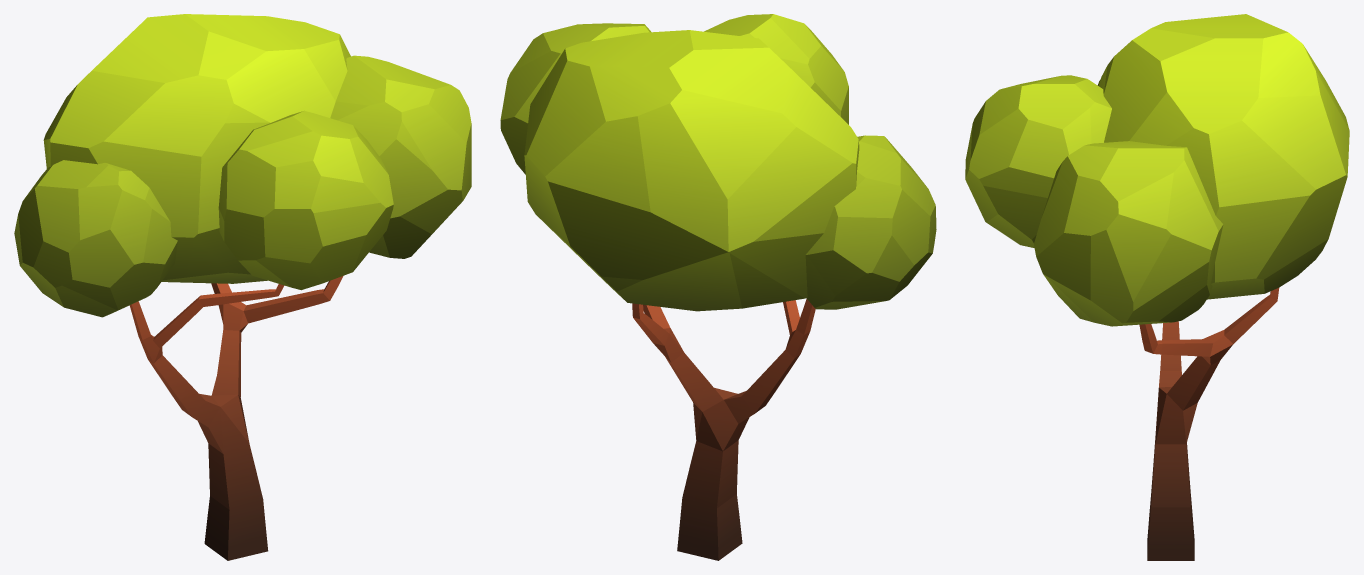
3 views of the same model, side by side, from view 1: azimuth 30°, elevation 25°; view 2: azimuth 150°, elevation 25°; view 3: azimuth 270°, elevation 25° (orthographic). The views are drawn at different scales.
Visible parts, largest first — view 1: 4.001; view 2: 4.001; view 3: 4.001.
Boxes of the visible parts, box(x1,y1,x2,y2) form: 4.001: box(14, 14, 471, 560); 4.001: box(500, 14, 936, 560); 4.001: box(965, 14, 1349, 560).
Size of the model in its own units: 4.45 by 5.11 by 3.49.
Materials: 1 (1 with a texture image).
